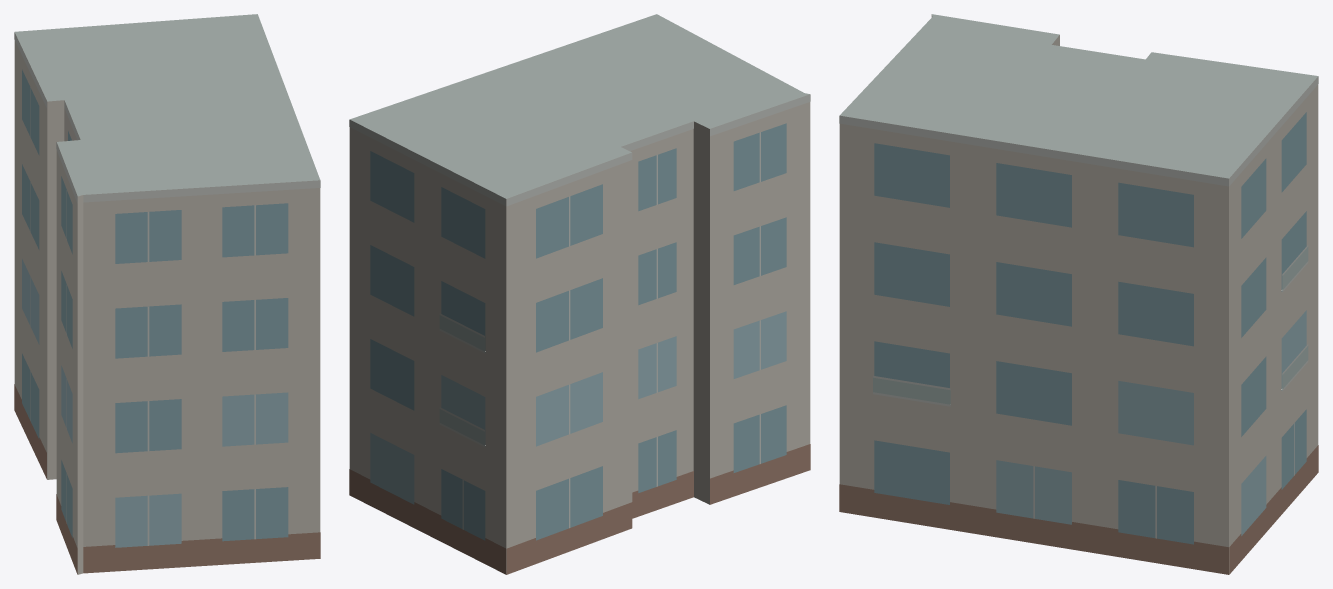
File: survey-upis-32592964.glb
3 views of the same model, side by side, from view 1: azimuth 30°, elevation 25°; view 2: azimuth 150°, elevation 25°; view 3: azimuth 270°, elevation 25° (orthographic). The views are drawn at different scales.
Visible parts, largest first — view 1: survey-upis-32592964.tmp; view 2: survey-upis-32592964.tmp; view 3: survey-upis-32592964.tmp.
Boxes of the visible parts, x1,y1,x2,y2 form: survey-upis-32592964.tmp: (14, 14, 320, 574); survey-upis-32592964.tmp: (349, 14, 810, 574); survey-upis-32592964.tmp: (839, 14, 1318, 574).
Bounding box in the file's own units: 10.88 × 12.2 × 13.38.
